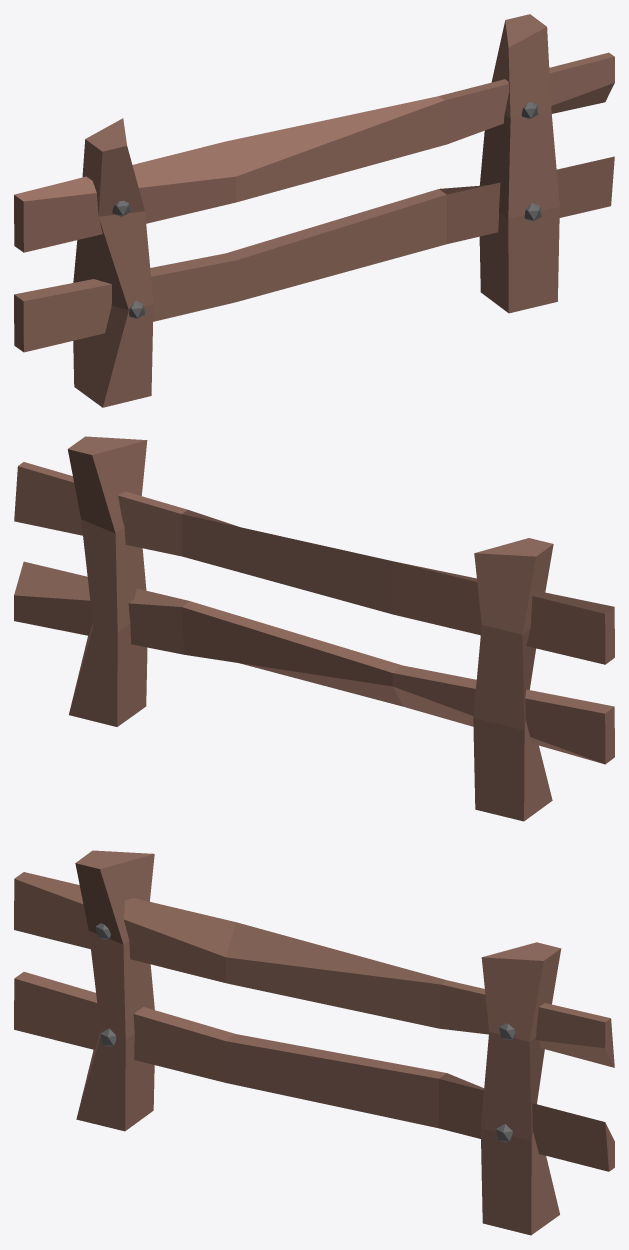
Rendered from cloture.fbx.
The picture shows the model from 3 angles, top to bottom: view 1: azimuth 30°, elevation 25°; view 2: azimuth 150°, elevation 25°; view 3: azimuth 330°, elevation 25°; orthographic projection.
Parts seen in each view (by area): view 1: Cube.002, Cube.003, Cube.001, Cube; view 2: Cube.002, Cube.003, Cube, Cube.001; view 3: Cube.002, Cube.003, Cube.001, Cube.
Part boxes in pixels (x1,y1,x2,y2): Cube.002: [14, 52, 614, 252]; Cube.003: [14, 156, 614, 352]; Cube.001: [479, 14, 559, 313]; Cube: [73, 118, 153, 407]; Cube.002: [14, 462, 614, 664]; Cube.003: [14, 561, 614, 764]; Cube: [473, 538, 553, 821]; Cube.001: [67, 436, 147, 726]; Cube.002: [14, 872, 614, 1067]; Cube.003: [14, 972, 614, 1171]; Cube.001: [480, 942, 561, 1235]; Cube: [75, 850, 154, 1131].
Size of the model in its own units: 355 by 153 by 35.52.
